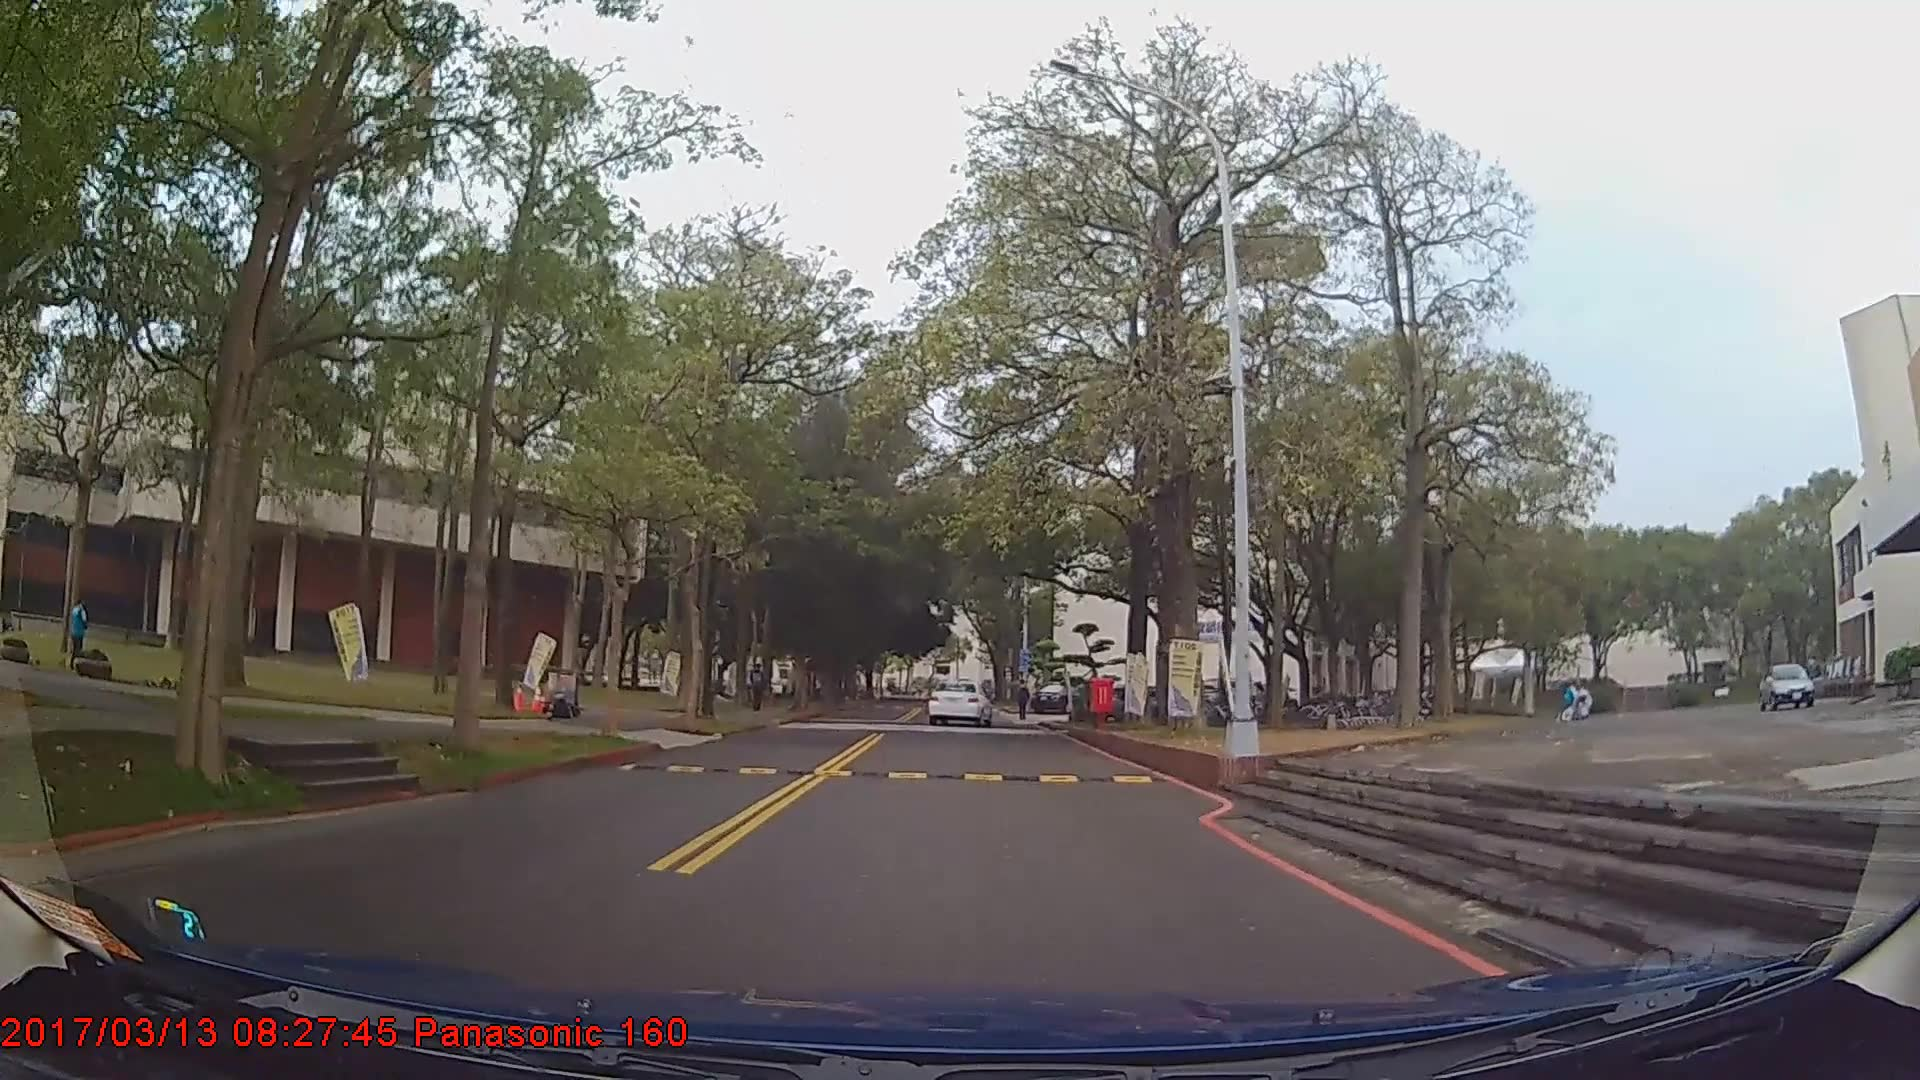pedestrian: (67, 600, 92, 677), (747, 665, 769, 716)
vehicle: (1756, 658, 1828, 710), (927, 680, 992, 727)
